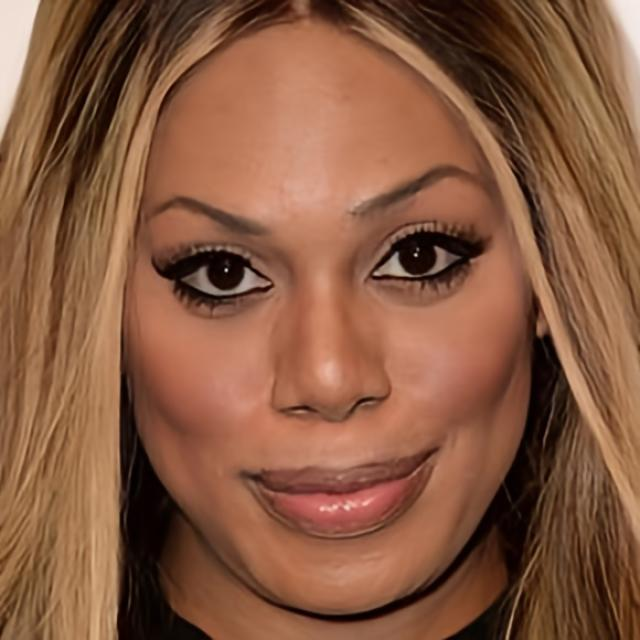content: (122, 18, 540, 620)
